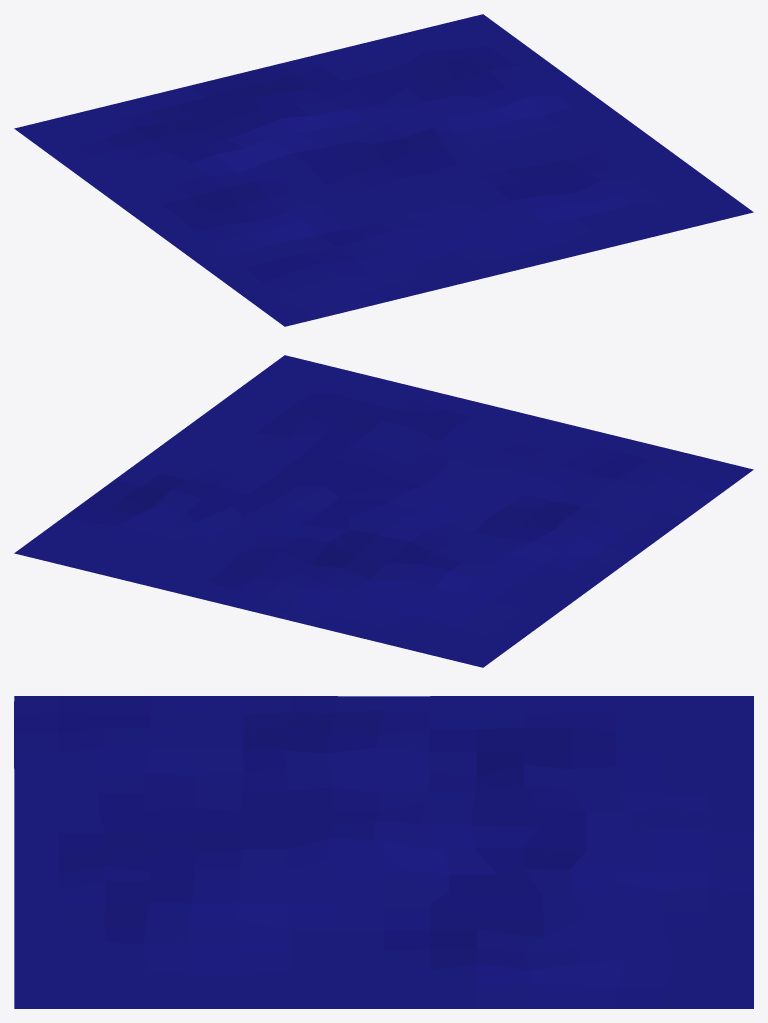
Rendered from Water4.FBX.
3 renders of one model, top to bottom at view 1: azimuth 30°, elevation 25°; view 2: azimuth 150°, elevation 25°; view 3: azimuth 270°, elevation 25°, orthographic. The views are drawn at different scales.
Visible parts, largest first — view 1: Terrain.003; view 2: Terrain.003; view 3: Terrain.003.
Part boxes in pixels (<box>): Terrain.003: <box>14,14,753,326</box>; Terrain.003: <box>14,355,753,667</box>; Terrain.003: <box>14,696,753,1008</box>.
Size of the model in its own units: 800 by 800 by 19.31.
